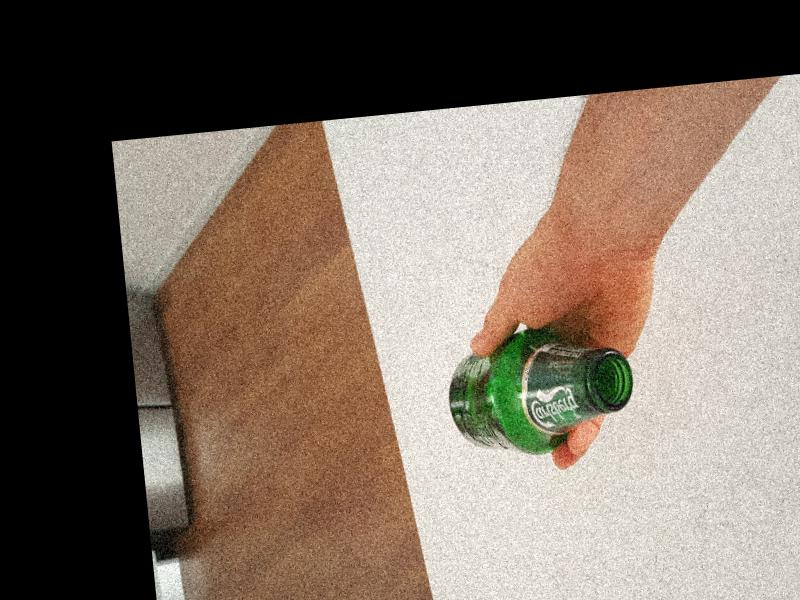Beer: (441, 321, 639, 461)
